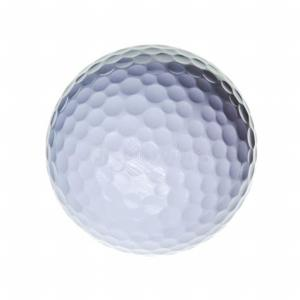Golf: (47, 45, 258, 255)
